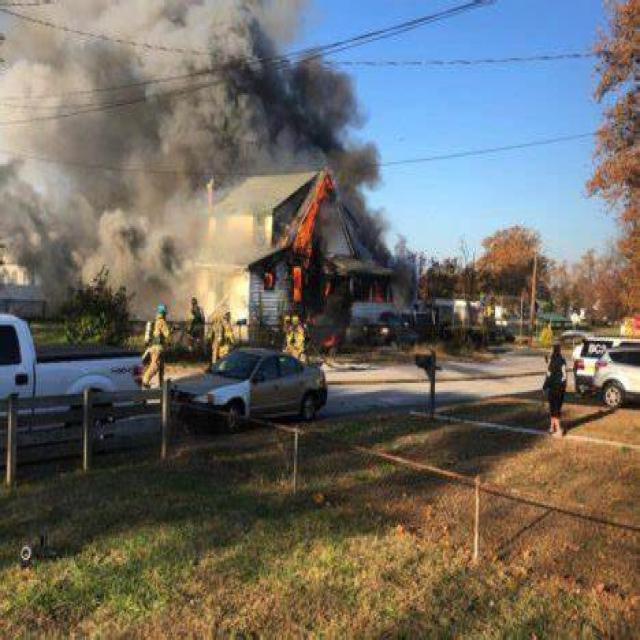smoke: (32, 14, 233, 162)
